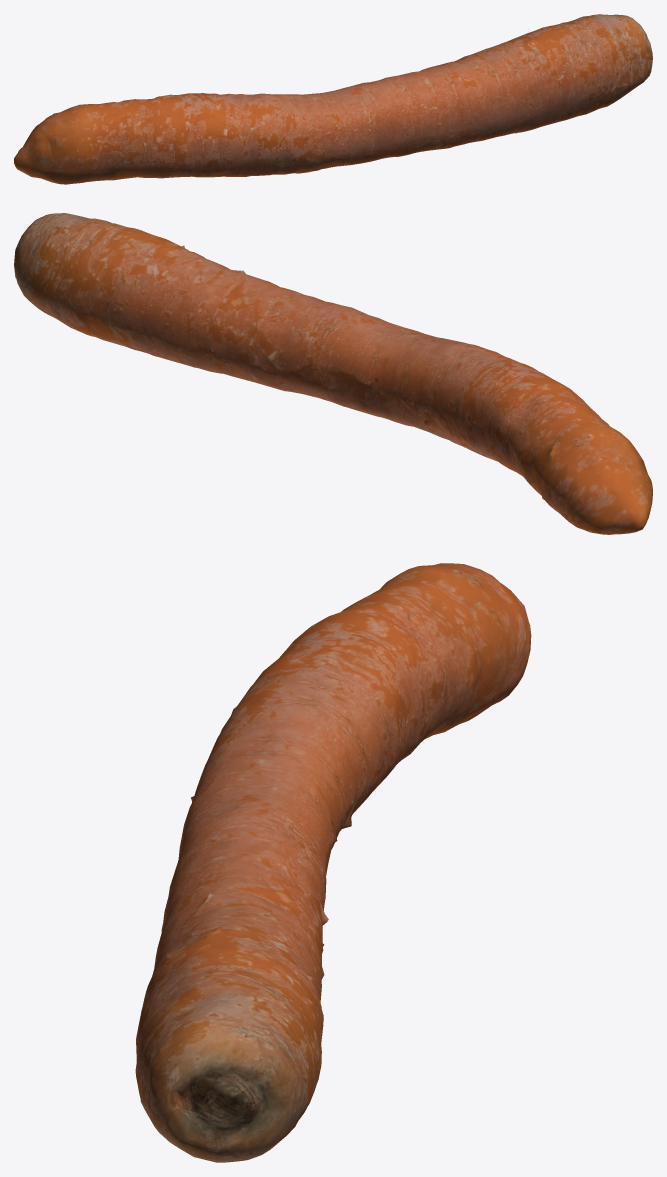
File: carrot.glb
The picture shows the model from 3 angles, top to bottom: view 1: azimuth 30°, elevation 25°; view 2: azimuth 150°, elevation 25°; view 3: azimuth 270°, elevation 25°; orthographic projection. The views are drawn at different scales.
Parts seen in each view (by area): view 1: node_carrot_-129748; view 2: node_carrot_-129748; view 3: node_carrot_-129748.
Part boxes in pixels (<box>): node_carrot_-129748: <box>14,14,652,184</box>; node_carrot_-129748: <box>14,213,652,534</box>; node_carrot_-129748: <box>135,563,531,1162</box>.
Bounding box in the file's own units: 0.157 × 0.0239 × 0.0477.
1 material, 1 textured.
